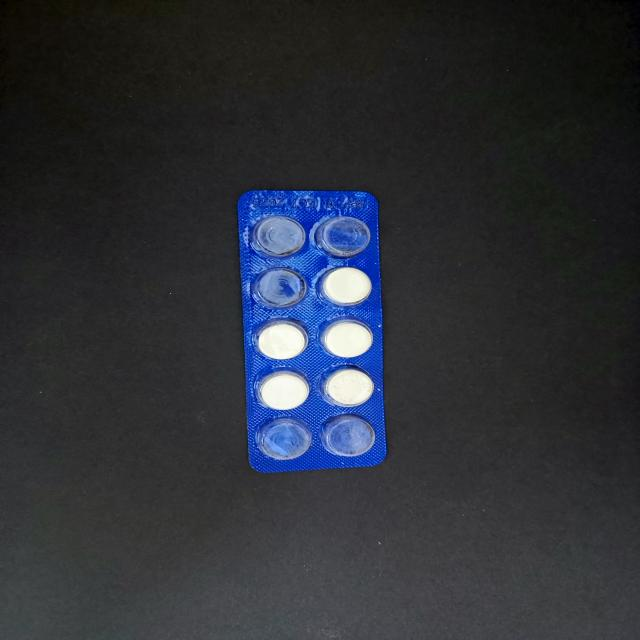defect: (311, 214, 374, 260), (255, 415, 314, 462), (249, 265, 310, 310), (318, 412, 377, 458), (250, 214, 308, 260)
